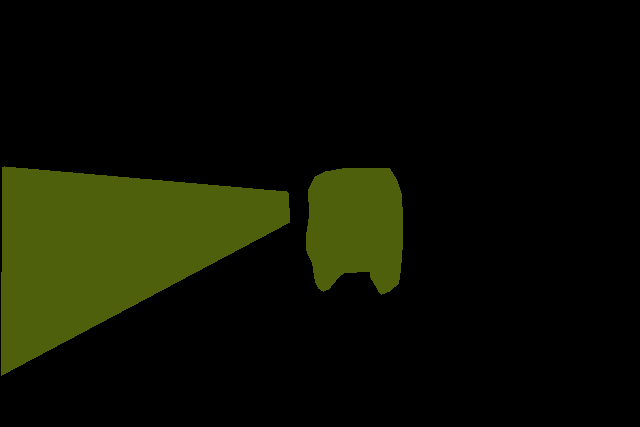Train: (1, 166, 289, 375), (306, 168, 403, 295)
